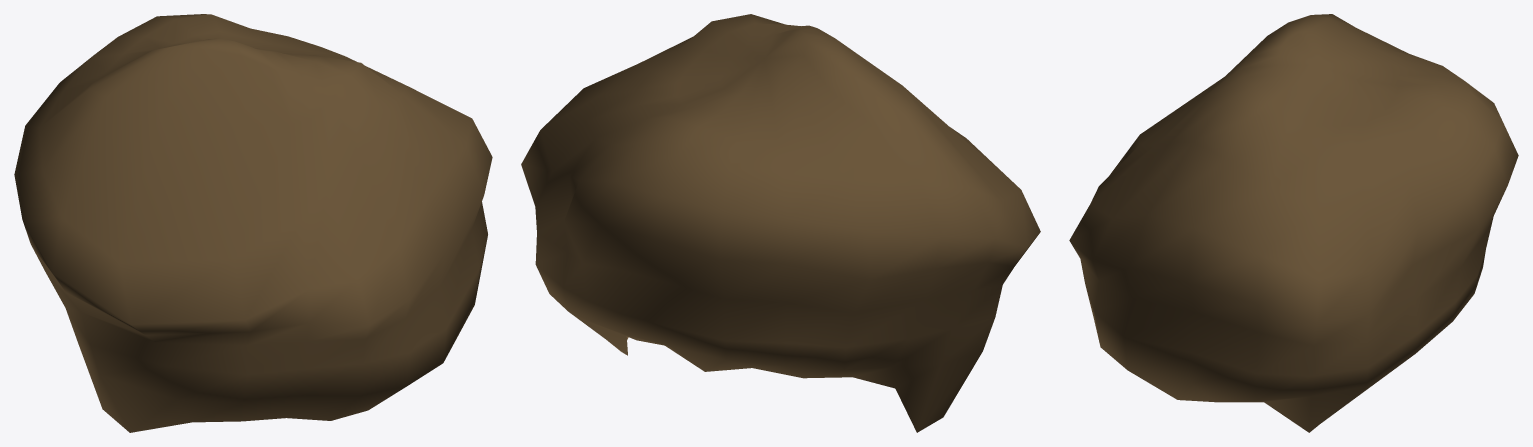
Rendered from hair_afro_2.fbx.
3 views of the same model, side by side, from view 1: azimuth 30°, elevation 25°; view 2: azimuth 150°, elevation 25°; view 3: azimuth 270°, elevation 25° (orthographic). The views are drawn at different scales.
Visible parts, largest first — view 1: pSphere18; view 2: pSphere18; view 3: pSphere18.
Boxes of the visible parts, x1,y1,x2,y2 form: pSphere18: (14, 14, 492, 432); pSphere18: (521, 14, 1040, 432); pSphere18: (1069, 14, 1518, 432).
Size of the model in its own units: 3.27 by 2.44 by 2.97.
